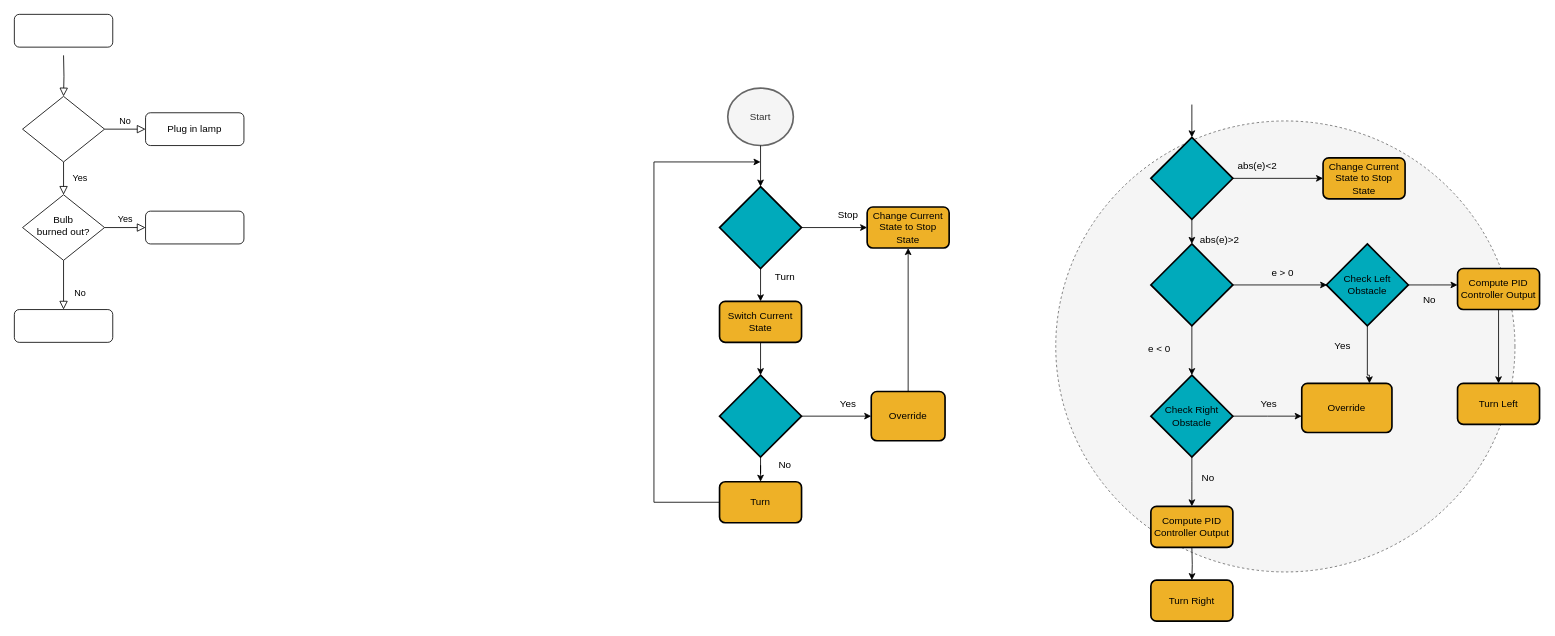
The diagram is 1555 pixels wide and 636 high, and some of its shapes have lost their labels. Here are the shapes that lost their labels. From the top down, the box of each, then its label:
(14, 14, 113, 47): Lamp doesn't work
(22, 96, 105, 162): Lamp plugged in?
(1150, 136, 1233, 220): Compute error
(145, 210, 244, 244): Replace Bulb
(718, 185, 802, 269): Check Setpoint State
(1150, 243, 1233, 326): Check Direction
(14, 309, 113, 342): Repair Lamp
(718, 374, 802, 458): Check Obstacle
